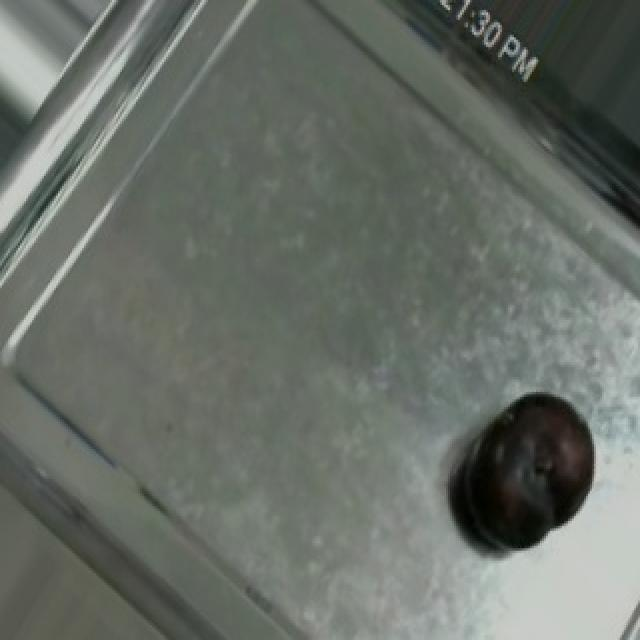Fruit: (444, 374, 618, 570)
